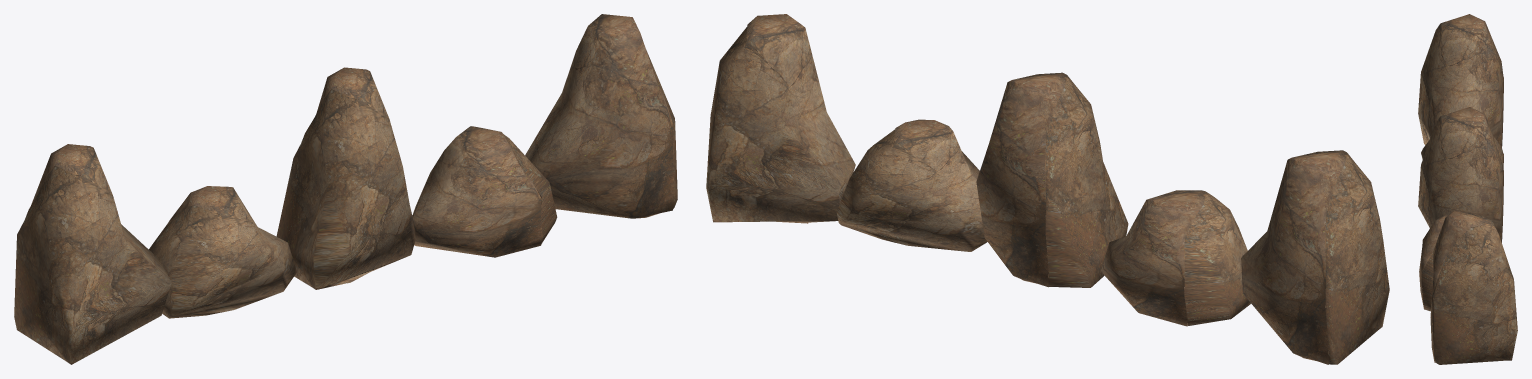
Rendered from rock_cover.fbx.
3 renders of one model, left to right at view 1: azimuth 30°, elevation 25°; view 2: azimuth 150°, elevation 25°; view 3: azimuth 270°, elevation 25°, orthographic. The views are drawn at different scales.
Visible parts, largest first — view 1: Rock_lod0.001, Rock_lod0.003, Rock_lod0, Rock_lod0.002, Rock_lod0.004; view 2: Rock_lod0, Rock_lod0.003, Rock_lod0.001, Rock_lod0.004, Rock_lod0.002; view 3: Rock_lod0.003, Rock_lod0, Rock_lod0.001, Rock_lod0.002, Rock_lod0.004.
Boxes of the visible parts, x1=… form: Rock_lod0.001: x1=14, y1=144, x2=171, y2=364; Rock_lod0.003: x1=525, y1=14, x2=677, y2=218; Rock_lod0: x1=276, y1=67, x2=415, y2=289; Rock_lod0.002: x1=412, y1=126, x2=557, y2=257; Rock_lod0.004: x1=149, y1=186, x2=296, y2=318; Rock_lod0: x1=976, y1=72, x2=1128, y2=287; Rock_lod0.003: x1=706, y1=14, x2=855, y2=223; Rock_lod0.001: x1=1241, y1=150, x2=1389, y2=364; Rock_lod0.004: x1=1101, y1=190, x2=1250, y2=326; Rock_lod0.002: x1=836, y1=119, x2=987, y2=251; Rock_lod0.003: x1=1430, y1=210, x2=1517, y2=364; Rock_lod0: x1=1418, y1=107, x2=1503, y2=242; Rock_lod0.001: x1=1418, y1=14, x2=1503, y2=147; Rock_lod0.002: x1=1419, y1=215, x2=1447, y2=311; Rock_lod0.004: x1=1421, y1=136, x2=1503, y2=168.
Bounding box in the file's own units: 2386 × 705 × 447.
